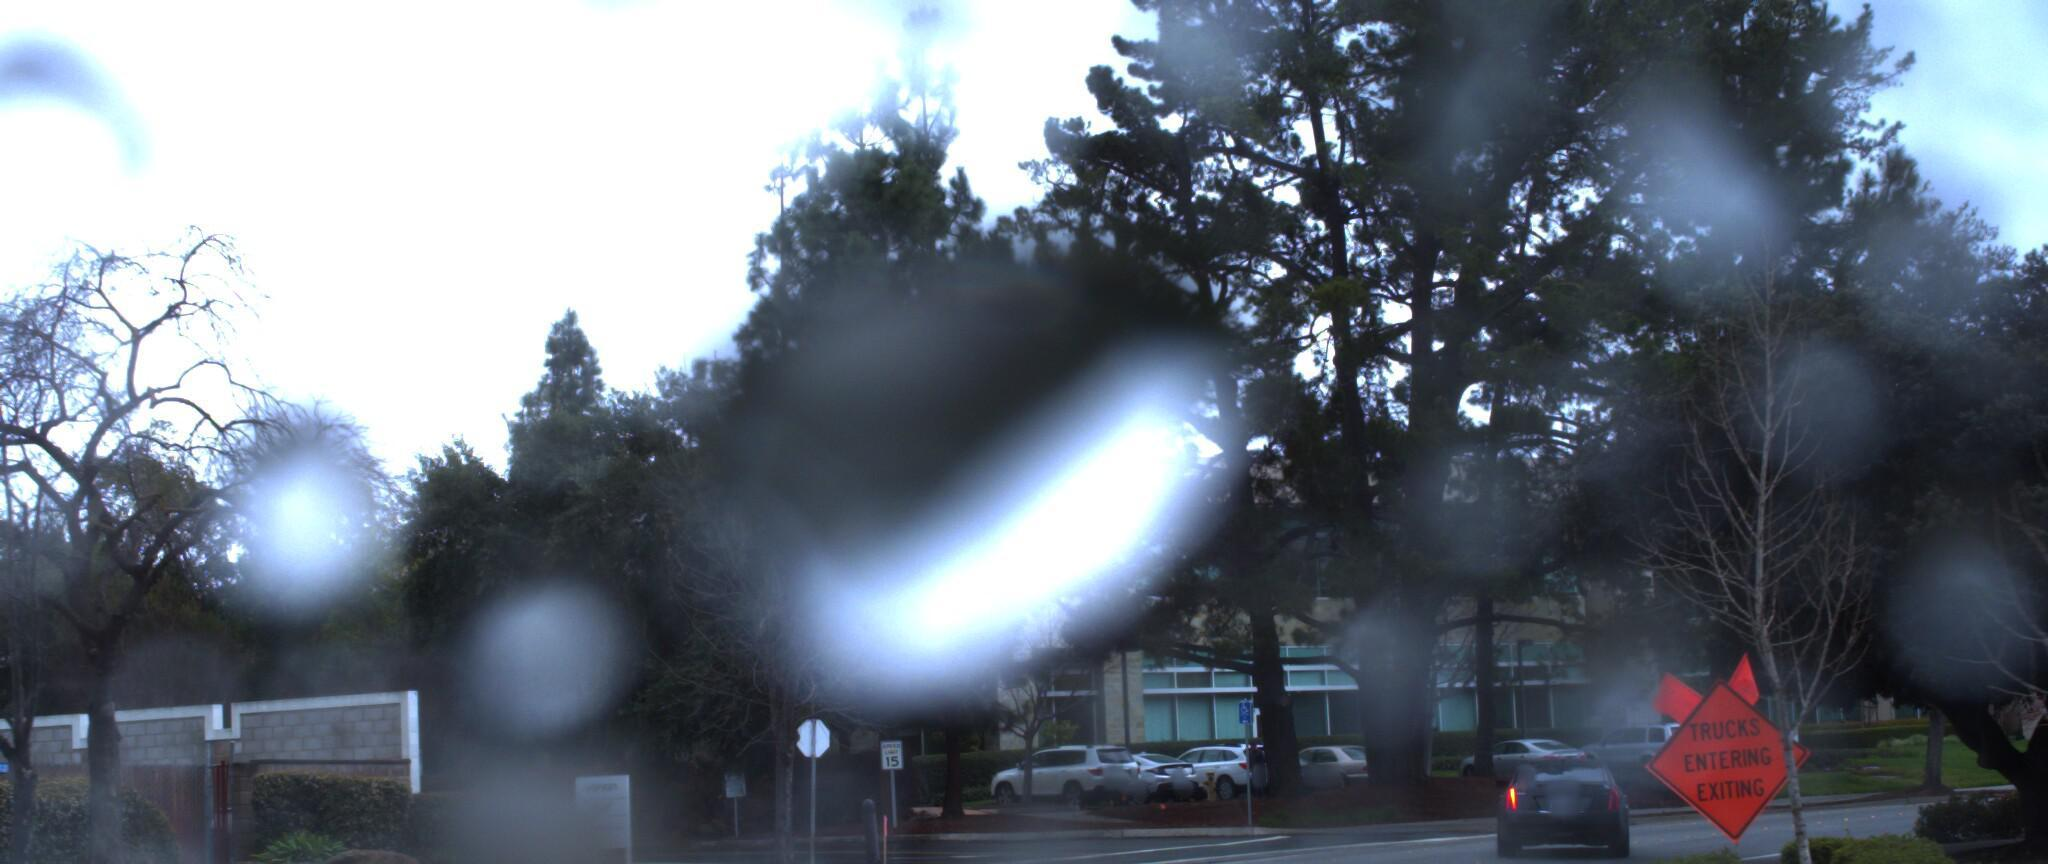car: (1455, 747, 1624, 864)
